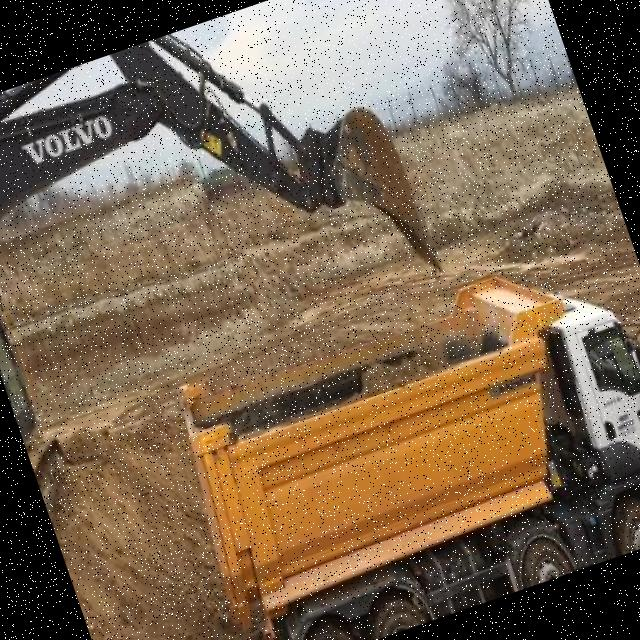Dump Truck: (150, 232, 640, 640)
Excavator: (0, 0, 497, 582)
